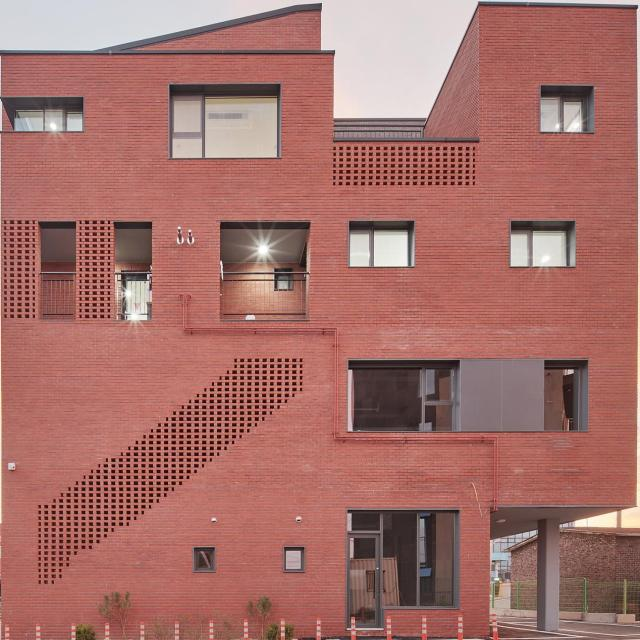Railing: (219, 272, 308, 318), (40, 272, 76, 321), (116, 274, 151, 321), (334, 130, 426, 139)
door: (348, 511, 456, 626)
wall: (2, 0, 638, 640)
windows: (347, 366, 454, 432), (172, 95, 278, 156), (544, 367, 580, 432), (512, 230, 570, 267), (351, 230, 409, 266), (541, 96, 587, 131), (15, 109, 82, 132), (284, 549, 303, 570), (196, 550, 213, 570)
